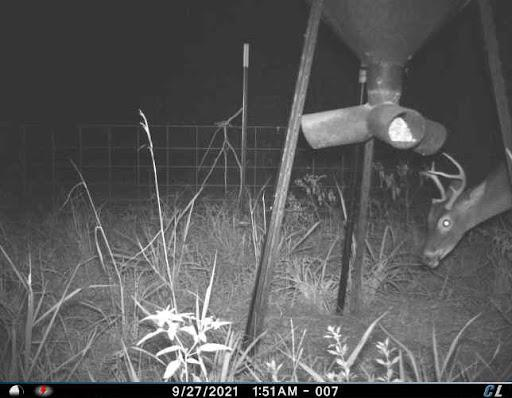Deer: (410, 139, 512, 274)
